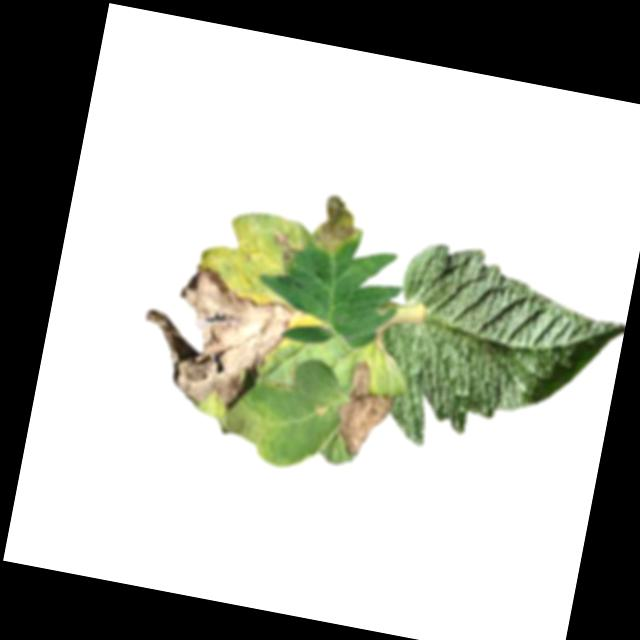Late_blight: (130, 256, 306, 420), (329, 355, 399, 462), (308, 193, 368, 261), (219, 398, 263, 443), (266, 229, 303, 276), (376, 298, 399, 318)
